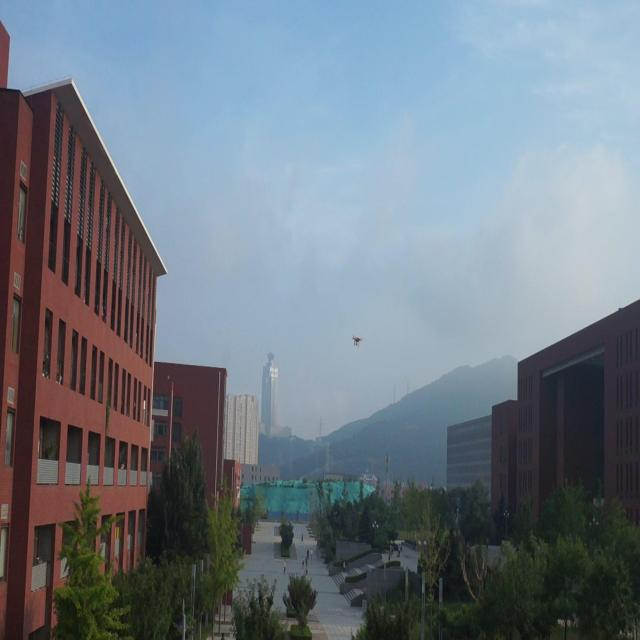drone: (350, 334, 364, 346)
